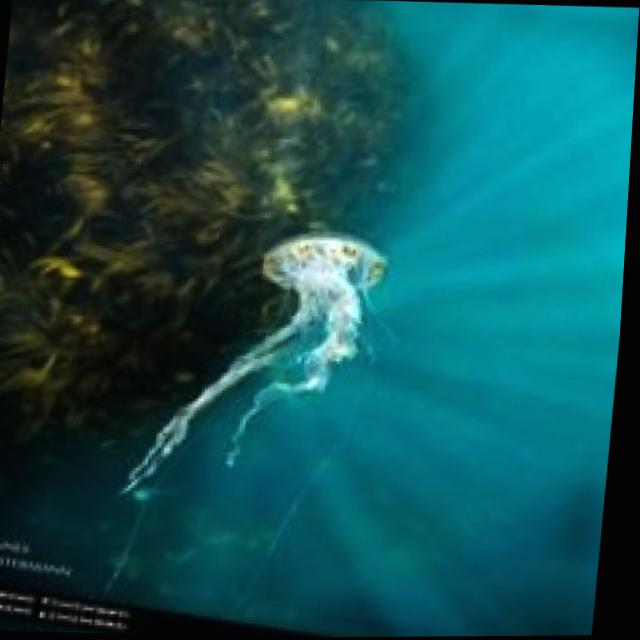Jellyfish: (123, 221, 398, 504)
